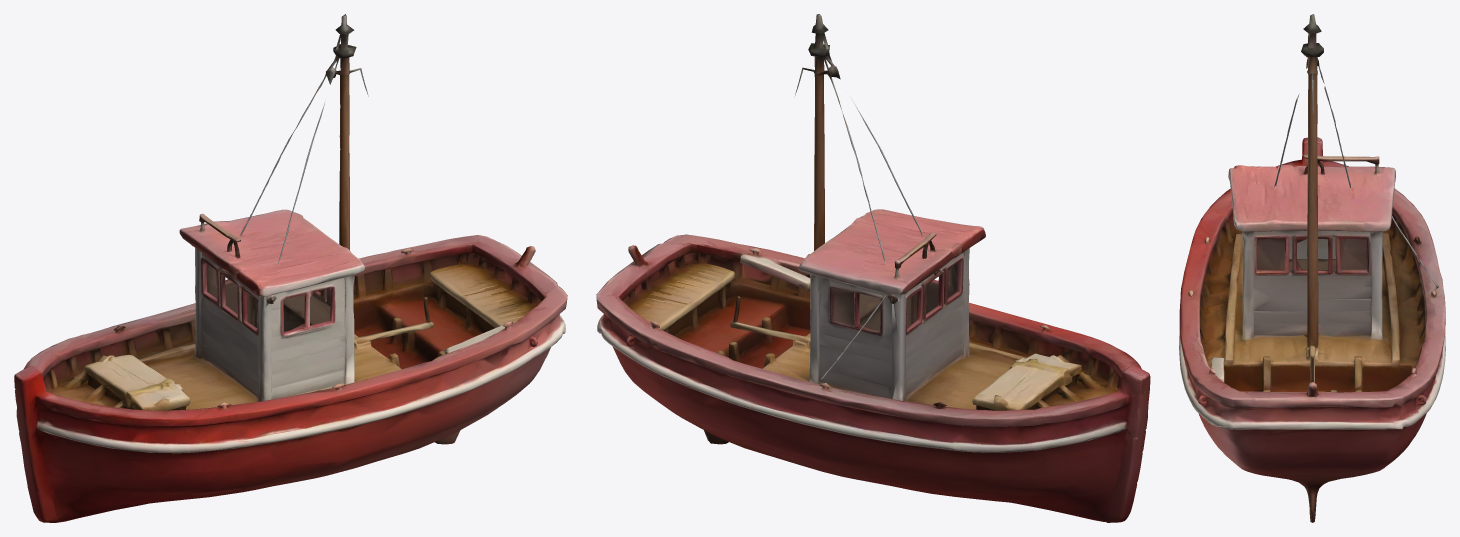
The model's file is boat.glb.
3 renders of one model, left to right at view 1: azimuth 30°, elevation 25°; view 2: azimuth 150°, elevation 25°; view 3: azimuth 270°, elevation 25°, orthographic.
Parts seen in each view (by area): view 1: tripo_node_3b00540e-7ae6-43ab-9450-b0a8bddfc51c; view 2: tripo_node_3b00540e-7ae6-43ab-9450-b0a8bddfc51c; view 3: tripo_node_3b00540e-7ae6-43ab-9450-b0a8bddfc51c.
Part boxes in pixels (bbox=[...]): tripo_node_3b00540e-7ae6-43ab-9450-b0a8bddfc51c: bbox=[14, 14, 567, 522]; tripo_node_3b00540e-7ae6-43ab-9450-b0a8bddfc51c: bbox=[596, 14, 1150, 522]; tripo_node_3b00540e-7ae6-43ab-9450-b0a8bddfc51c: bbox=[1179, 14, 1445, 522].
Bounding box in the file's own units: 1 × 0.8394 × 0.445.
1 material, 1 textured.
